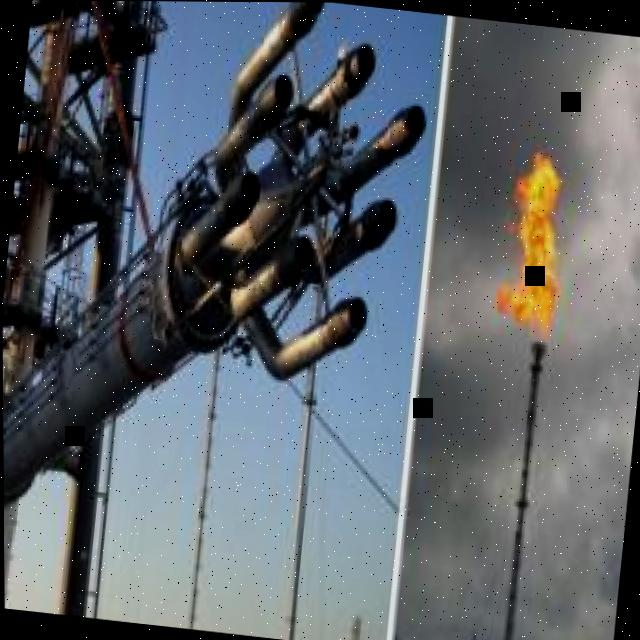fire: (496, 149, 562, 338)
